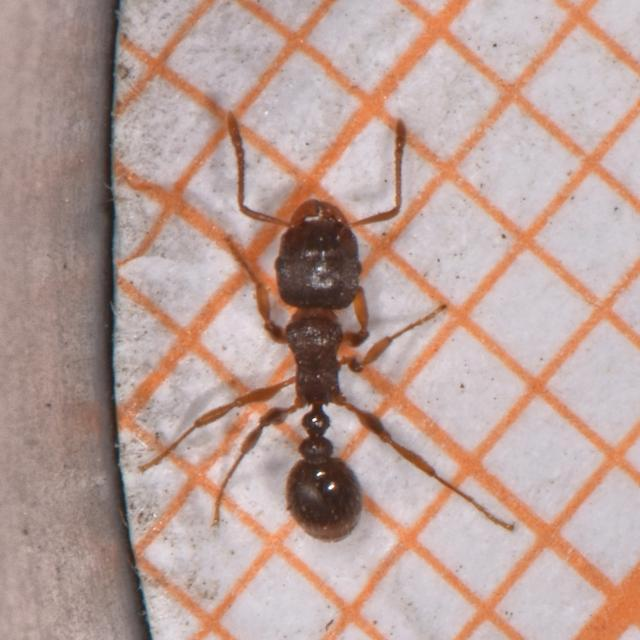Tetramorium: (176, 129, 489, 557)
